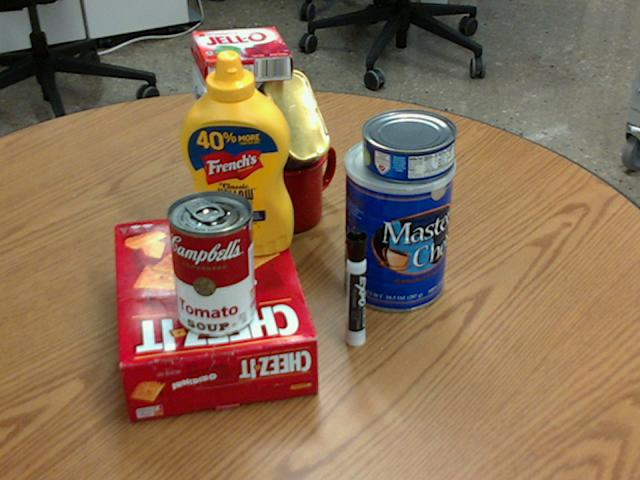cracker_box: (116, 208, 319, 420)
gelatin_box: (192, 28, 291, 85)
large_marker: (344, 228, 367, 346)
master_chef_can: (341, 133, 455, 311)
mug: (243, 131, 337, 231)
mustard_bottle: (178, 50, 291, 255)
potted_meat_can: (236, 70, 330, 187)
sugar_box: (193, 63, 250, 255)
tomato_soup_can: (166, 190, 255, 336)
tuna_fish_can: (362, 109, 456, 182)
